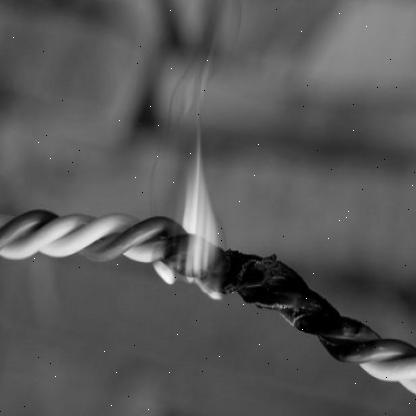fire: (152, 38, 234, 293)
